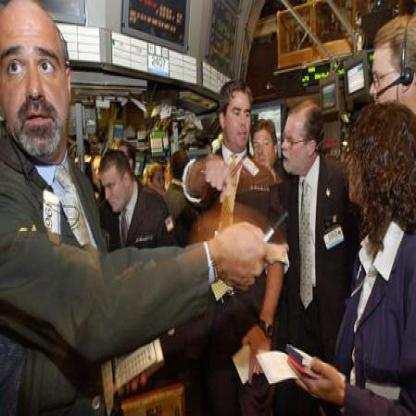face: (1, 1, 69, 160), (279, 102, 317, 178), (225, 86, 254, 151), (98, 158, 129, 217), (253, 124, 276, 175)
